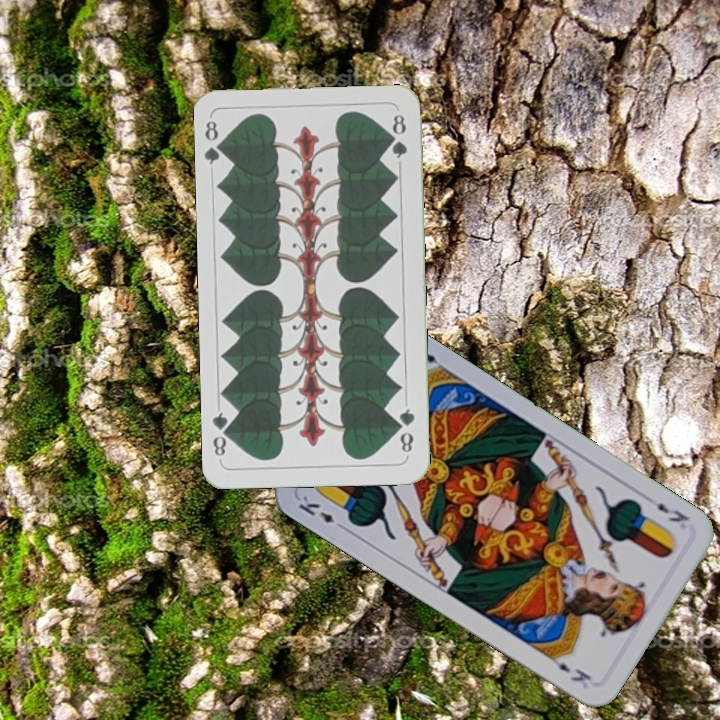EK: (294, 491, 349, 533), (653, 498, 692, 525)
G8: (201, 117, 228, 167), (394, 404, 418, 458)
